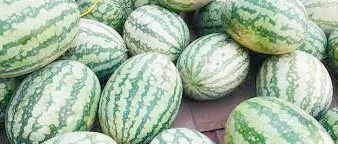watermelon: (101, 51, 185, 136), (11, 62, 98, 144), (254, 51, 333, 120), (181, 33, 248, 103), (126, 5, 191, 56)
